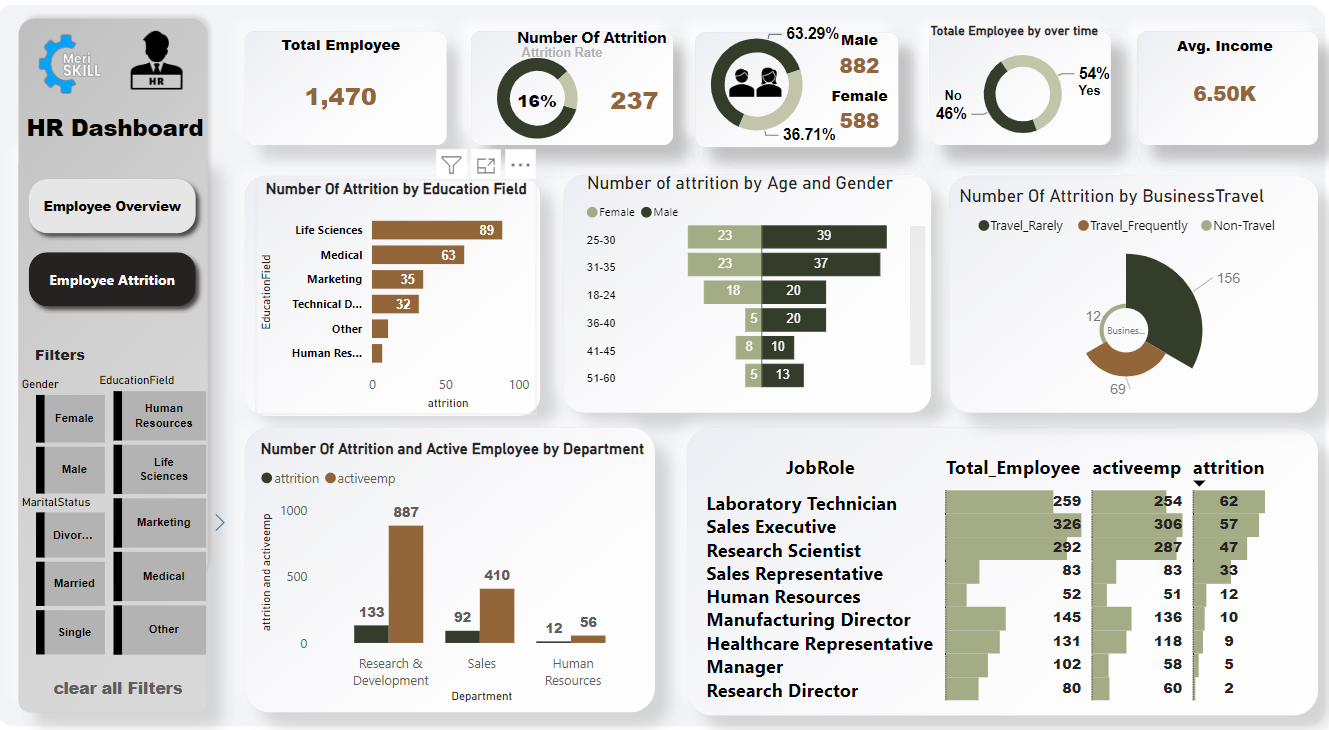

The page's visual inventory and layout, read from the dashboard file:
{"tool":"powerbi","page":{"name":"Employee Attrition","canvas":[1320,730],"ordinal":1},"visuals":[{"type":"clusteredBarChart","title":"Number Of Attrition by Education Field","fields":{"Category":["HR-Employee-Attrition.EducationField"],"Y":["All Measures.attrition"]},"box":[303.8,195,265,221.2],"z":0},{"type":"pivotTable","title":"Totale Attrition ","fields":{"Rows":["HR-Employee-Attrition.JobRole"],"Values":["All Measures.Total_Employee","All Measures.activeemp","All Measures.attrition"]},"box":[717.8,449.3,577.6,267.2],"z":1000},{"type":"AsterPlot1443303142064","title":"Number Of Attrition by BusinessTravel","fields":{"Category":["HR-Employee-Attrition.BusinessTravel"],"Y":["All Measures.attrition"]},"box":[966.2,200,323.8,232.5],"z":2000},{"type":"clusteredColumnChart","title":"Number Of Attrition and Active Employee by Department","fields":{"Category":["HR-Employee-Attrition.Department"],"Y":["All Measures.attrition","All Measures.activeemp"]},"box":[303.8,440,372.5,252.5],"z":3000},{"type":"TornadoChart1452517688218","title":"Number of attrition by Age and Gender","fields":{"Series":["HR-Employee-Attrition.Gender"],"Values":["All Measures.attrition"],"Category":["HR-Employee-Attrition.Age_g"]},"box":[610,188.8,328.8,227.5],"z":4000},{"type":"card","title":"      Total Employee","fields":{"Values":["All Measures.Total_Employee"]},"box":[288.8,58.8,191.2,100],"z":5000},{"type":"card","title":"Avg. Income","fields":{"Values":["All Measures.AVGMonthlyIncome"]},"box":[1136.2,60,158.8,95],"z":6000},{"type":"card","fields":{"Values":["All Measures.attrition"]},"box":[603.6,86.2,113.8,72.5],"z":7000},{"type":"donutChart","fields":{"Category":["HR-Employee-Attrition.Attrition"],"Y":["All Measures.Total_Employee"]},"box":[516.6,66.2,105,106.2],"z":8000},{"type":"card","title":"      Total Employee","fields":{"Values":["All Measures.%attrition"]},"box":[541.1,93.7,55,57.5],"z":9000},{"type":"textbox","box":[533.6,46,171.4,40],"z":10000},{"type":"card","title":"      Male","fields":{"Values":["All Measures.Male"]},"box":[837.3,53.8,68.8,53.8],"z":11000},{"type":"card","title":"      Female","fields":{"Values":["All Measures.Female"]},"box":[834.8,107.5,73.8,50],"z":12000},{"type":"image","box":[736,82.5,50,45],"z":13000},{"type":"image","box":[758.5,82.5,55,45],"z":14000},{"type":"textbox","box":[519.8,61.2,143.8,36.2],"z":15000},{"type":"donutChart","fields":{"Category":["HR-Employee-Attrition.Gender"],"Y":["All Measures.attrition"]},"box":[694.8,46.2,160,120],"z":17000},{"type":"image","box":[176.2,50,67.5,65],"z":18000},{"type":"textbox","box":[78.8,126.2,185,43.8],"z":19000},{"type":"slicer","fields":{"Values":["HR-Employee-Attrition.EducationField"]},"box":[143.8,373.5,137.5,276.2],"z":20000},{"type":"slicer","fields":{"Values":["HR-Employee-Attrition.Gender"]},"box":[70,376,115,121.2],"z":21000},{"type":"slicer","fields":{"Values":["HR-Employee-Attrition.MaritalStatus"]},"box":[70,487.2,115,162.5],"z":22000},{"type":"pageNavigator","box":[81.2,186.2,175,137.5],"z":23000},{"type":"image","box":[76.2,32.5,108.8,107.5],"z":24000},{"type":"actionButton","box":[95,652.5,157.5,41.2],"z":25000},{"type":"textbox","box":[78.6,346,81.4,34.3],"z":26000},{"type":"donutChart","title":"Totale Employee by  over time","fields":{"Category":["HR-Employee-Attrition.OverTime"],"Y":["All Measures.attrition"]},"box":[938.8,48.8,173.8,115],"z":26001},{"type":"textbox","box":[1056.2,96.2,63.8,33.8],"z":26002},{"type":"textbox","box":[928.8,101.2,63.8,33.8],"z":26003}]}

Visuals, with their boxes in screenshot pixels (x1, y1, x2, y2), scaled from the page's 1320x730 canvas onto the 1329x730 screenshot:
"Number Of Attrition by Education Field" clusteredBarChart: box=[306, 195, 573, 416]
"Totale Attrition " pivotTable: box=[723, 449, 1304, 716]
"Number Of Attrition by BusinessTravel" AsterPlot1443303142064: box=[973, 200, 1299, 432]
"Number Of Attrition and Active Employee by Department" clusteredColumnChart: box=[306, 440, 681, 692]
"Number of attrition by Age and Gender" TornadoChart1452517688218: box=[614, 189, 945, 416]
"      Total Employee" card: box=[291, 59, 483, 159]
"Avg. Income" card: box=[1144, 60, 1304, 155]
card - All Measures.attrition: box=[608, 86, 722, 159]
donutChart - HR-Employee-Attrition.Attrition x All Measures.Total_Employee: box=[520, 66, 626, 172]
"      Total Employee" card: box=[545, 94, 600, 151]
textbox: box=[537, 46, 710, 86]
"      Male" card: box=[843, 54, 912, 108]
"      Female" card: box=[840, 108, 915, 158]
image: box=[741, 82, 791, 128]
image: box=[764, 82, 819, 128]
textbox: box=[523, 61, 668, 97]
donutChart - HR-Employee-Attrition.Gender x All Measures.attrition: box=[700, 46, 861, 166]
image: box=[177, 50, 245, 115]
textbox: box=[79, 126, 266, 170]
slicer - HR-Employee-Attrition.EducationField: box=[145, 374, 283, 650]
slicer - HR-Employee-Attrition.Gender: box=[70, 376, 186, 497]
slicer - HR-Employee-Attrition.MaritalStatus: box=[70, 487, 186, 650]
pageNavigator: box=[82, 186, 258, 324]
image: box=[77, 32, 186, 140]
actionButton: box=[96, 652, 254, 694]
textbox: box=[79, 346, 161, 380]
"Totale Employee by  over time" donutChart: box=[945, 49, 1120, 164]
textbox: box=[1063, 96, 1128, 130]
textbox: box=[935, 101, 999, 135]
